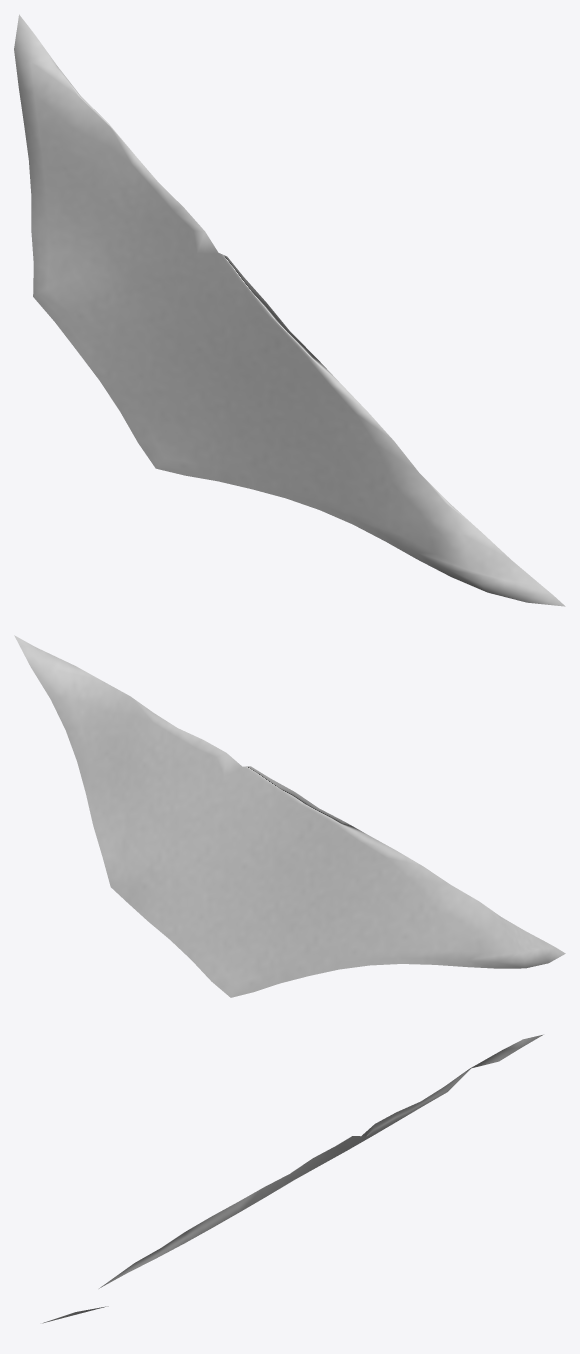
The model's file is Pants_Decor_Pocket_Left_V2.glb.
3 views of the same model, one above another, from view 1: azimuth 90°, elevation 25°; view 2: azimuth 150°, elevation 25°; view 3: azimuth 270°, elevation 25° (orthographic).
Parts seen in each view (by area): view 1: Pants_Decor_Pocket_Left_V21; view 2: Pants_Decor_Pocket_Left_V21; view 3: Pants_Decor_Pocket_Left_V21.
Boxes of the visible parts, <box> form: Pants_Decor_Pocket_Left_V21: <box>14,14,565,606</box>; Pants_Decor_Pocket_Left_V21: <box>14,635,565,997</box>; Pants_Decor_Pocket_Left_V21: <box>42,1034,543,1323</box>.
Bounding box in the file's own units: 0.0529 × 0.0792 × 0.0875.
1 material, 1 textured.
